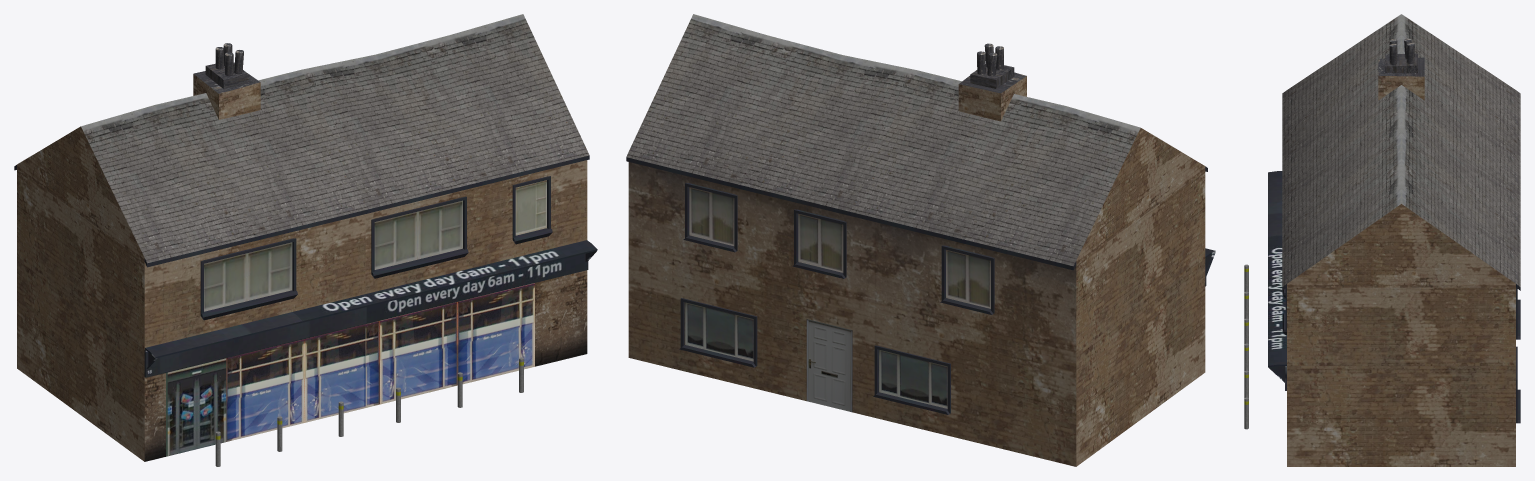
File: ukcommercialfood7.FBX
3 views of the same model, side by side, from view 1: azimuth 30°, elevation 25°; view 2: azimuth 150°, elevation 25°; view 3: azimuth 270°, elevation 25° (orthographic). The views are drawn at different scales.
Parts seen in each view (by area): view 1: Box002; view 2: Box002; view 3: Box002.
Boxes of the visible parts, <box> form: Box002: <box>14,14,597,466</box>; Box002: <box>626,14,1215,466</box>; Box002: <box>1244,14,1520,466</box>.
Size of the model in its own units: 1600 by 1137 by 964.
